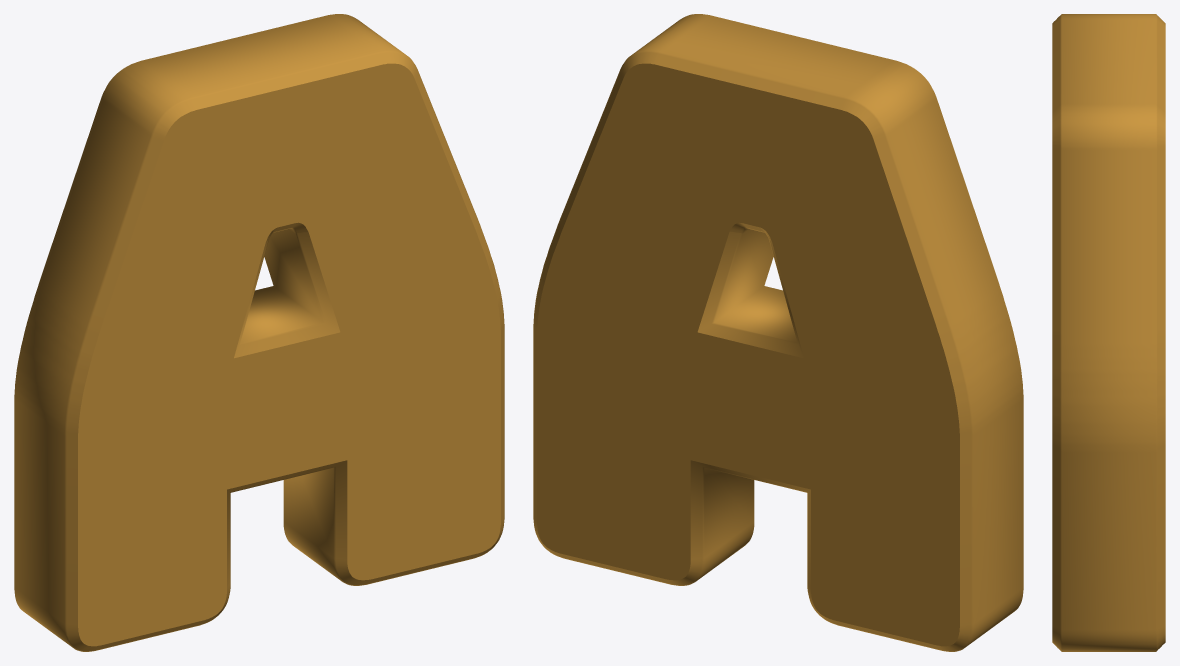
Rendered from bungee-letterA-draco.glb.
3 views of the same model, side by side, from view 1: azimuth 30°, elevation 25°; view 2: azimuth 150°, elevation 25°; view 3: azimuth 270°, elevation 25° (orthographic). The views are drawn at different scales.
Parts seen in each view (by area): view 1: Text; view 2: Text; view 3: Text.
Boxes of the visible parts, left/top/right/bottom form: Text: left=14, top=14, right=504, bottom=651; Text: left=533, top=14, right=1023, bottom=651; Text: left=1052, top=14, right=1165, bottom=651.
Size of the model in its own units: 2.54 by 2.92 by 0.5994.
